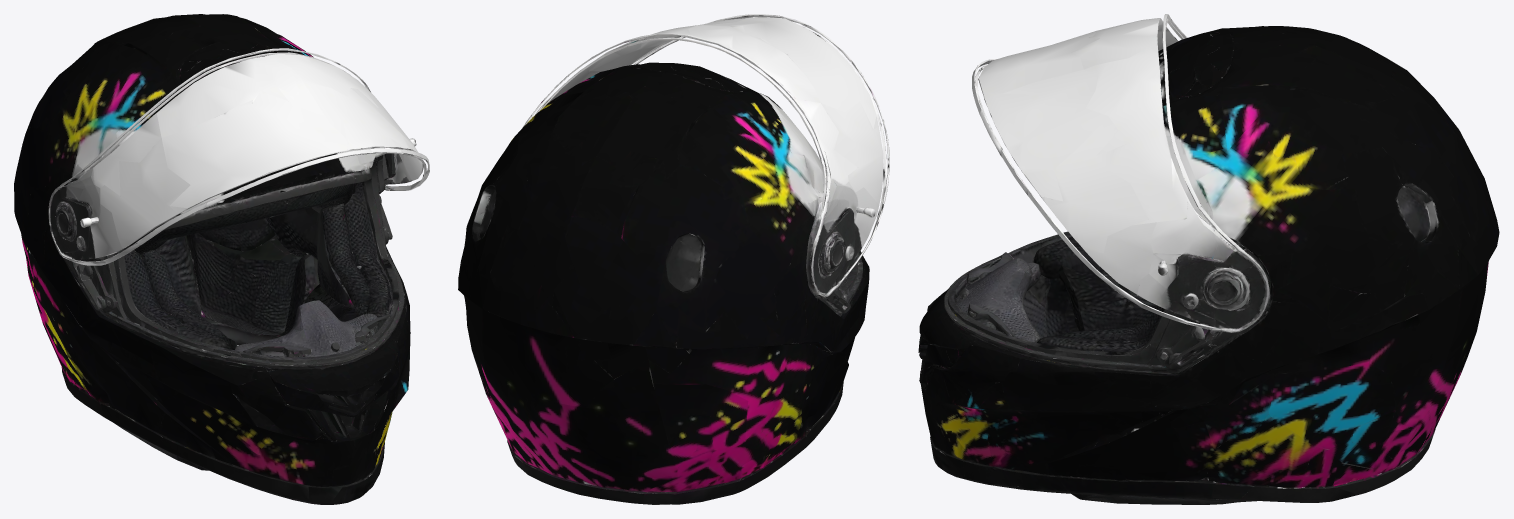
File: helmet.glb
3 views of the same model, side by side, from view 1: azimuth 30°, elevation 25°; view 2: azimuth 150°, elevation 25°; view 3: azimuth 270°, elevation 25° (orthographic). The views are drawn at different scales.
Parts seen in each view (by area): view 1: Mesh_0; view 2: Mesh_0; view 3: Mesh_0.
Boxes of the visible parts, x1,y1,x2,y2 form: Mesh_0: [14, 14, 429, 504]; Mesh_0: [458, 14, 889, 504]; Mesh_0: [918, 14, 1499, 504].
Bounding box in the file's own units: 0.7538 × 0.815 × 0.9997.
Materials: 1 (1 with a texture image).
